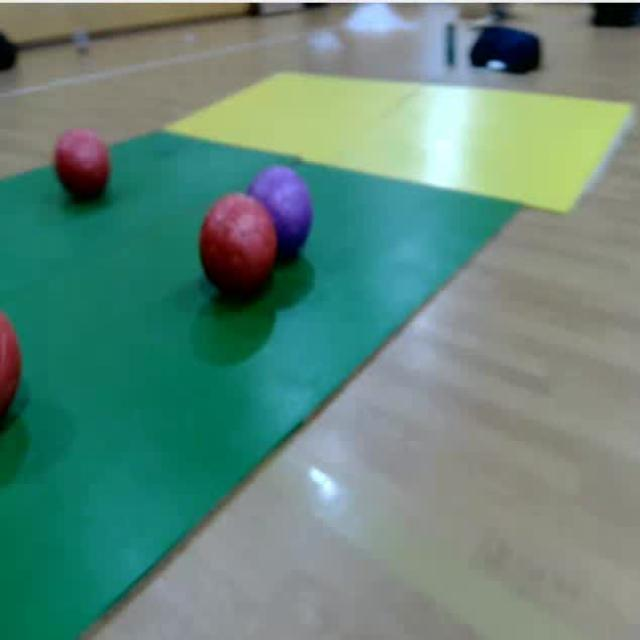purple_ball: (243, 165, 314, 258)
red_ball: (198, 191, 277, 299), (56, 130, 110, 200), (1, 308, 22, 432)
